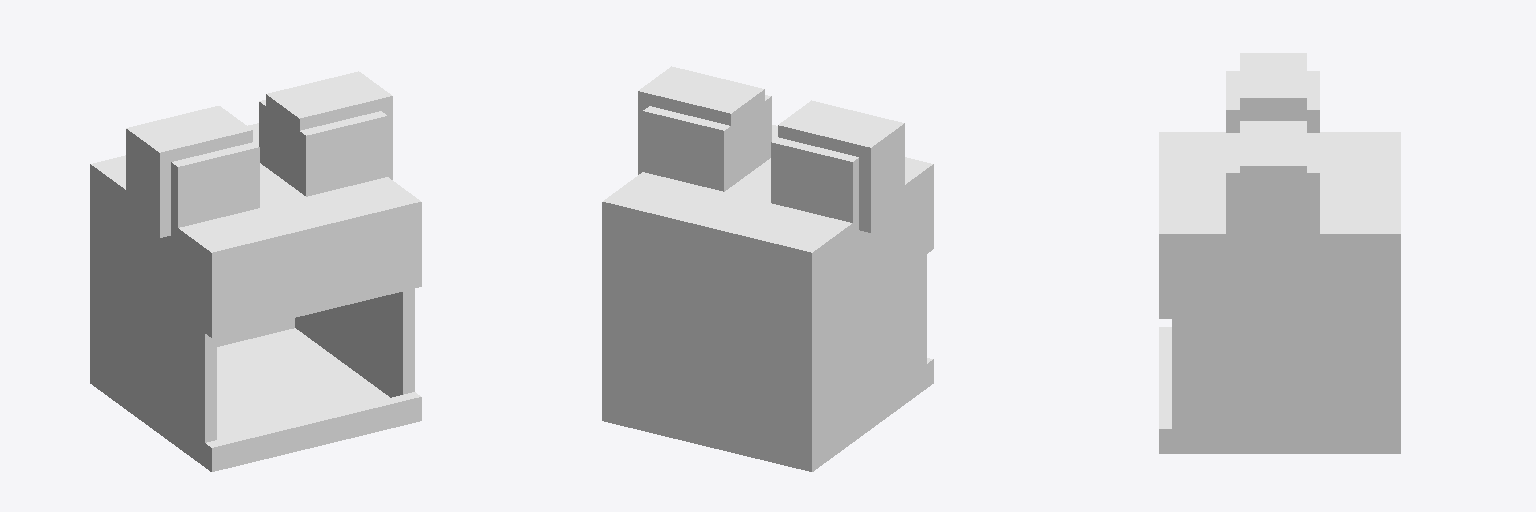
The model's file is MRFROGGY_HAT.obj.
3 renders of one model, left to right at view 1: azimuth 30°, elevation 25°; view 2: azimuth 150°, elevation 25°; view 3: azimuth 270°, elevation 25°, orthographic.
Parts seen in each view (by area): view 1: object 1; view 2: object 1; view 3: object 1.
Boxes of the visible parts, x1,y1,x2,y2 form: object 1: [90, 71, 421, 471]; object 1: [602, 66, 933, 471]; object 1: [1159, 53, 1400, 453].
Bounding box in the file's own units: 2 × 2.4 × 1.8.